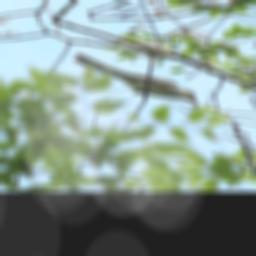Cuckoo: (73, 40, 202, 119)
